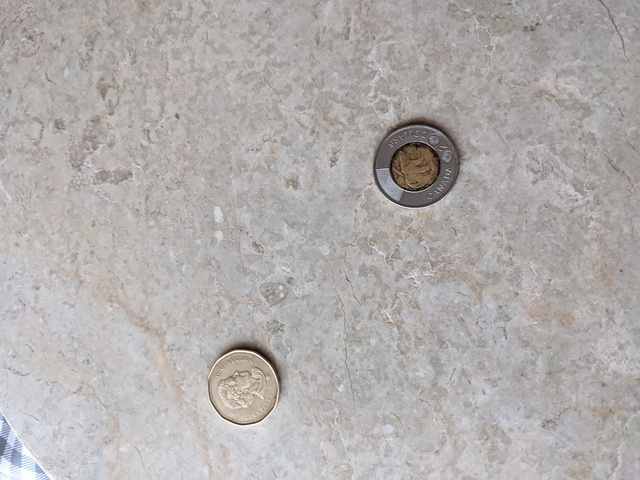loonie: (202, 331, 289, 424)
twonie: (367, 112, 472, 207)
